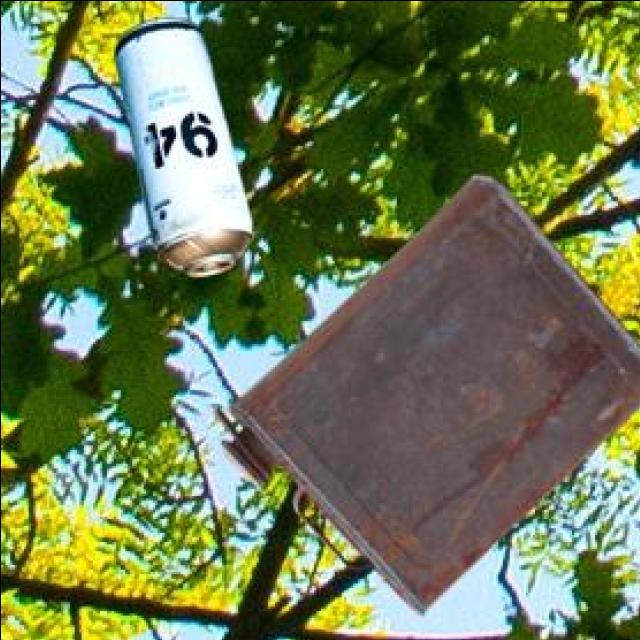logam: (218, 178, 640, 618), (119, 20, 257, 280)
